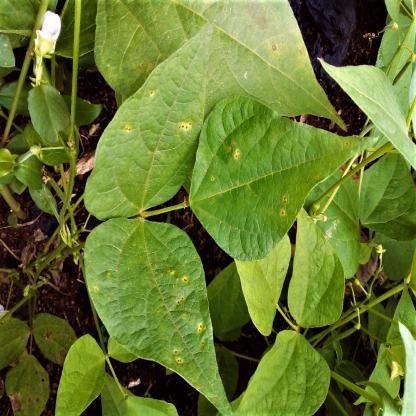Beans_Rust: (86, 216, 234, 414), (102, 0, 346, 120), (186, 99, 371, 250), (82, 21, 216, 224)
